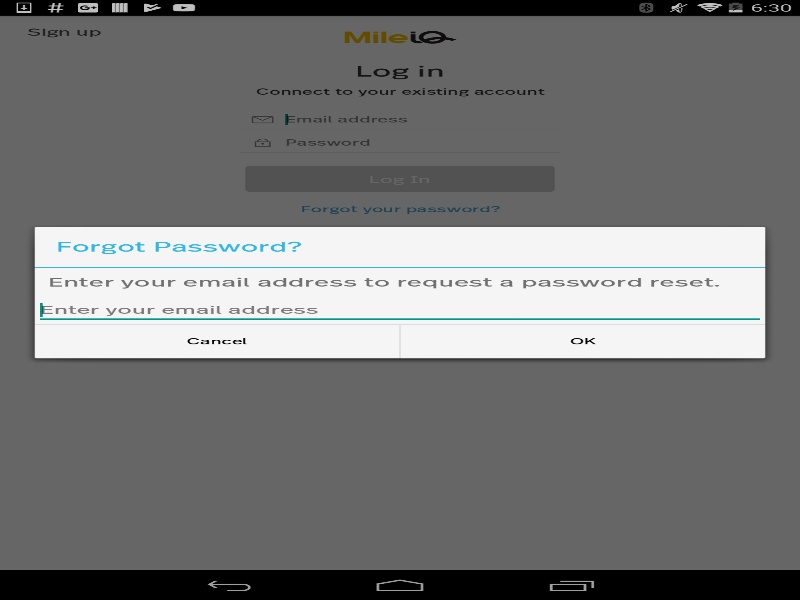Button: (34, 324, 399, 358), (400, 324, 765, 358)
Input: (34, 296, 765, 324)
